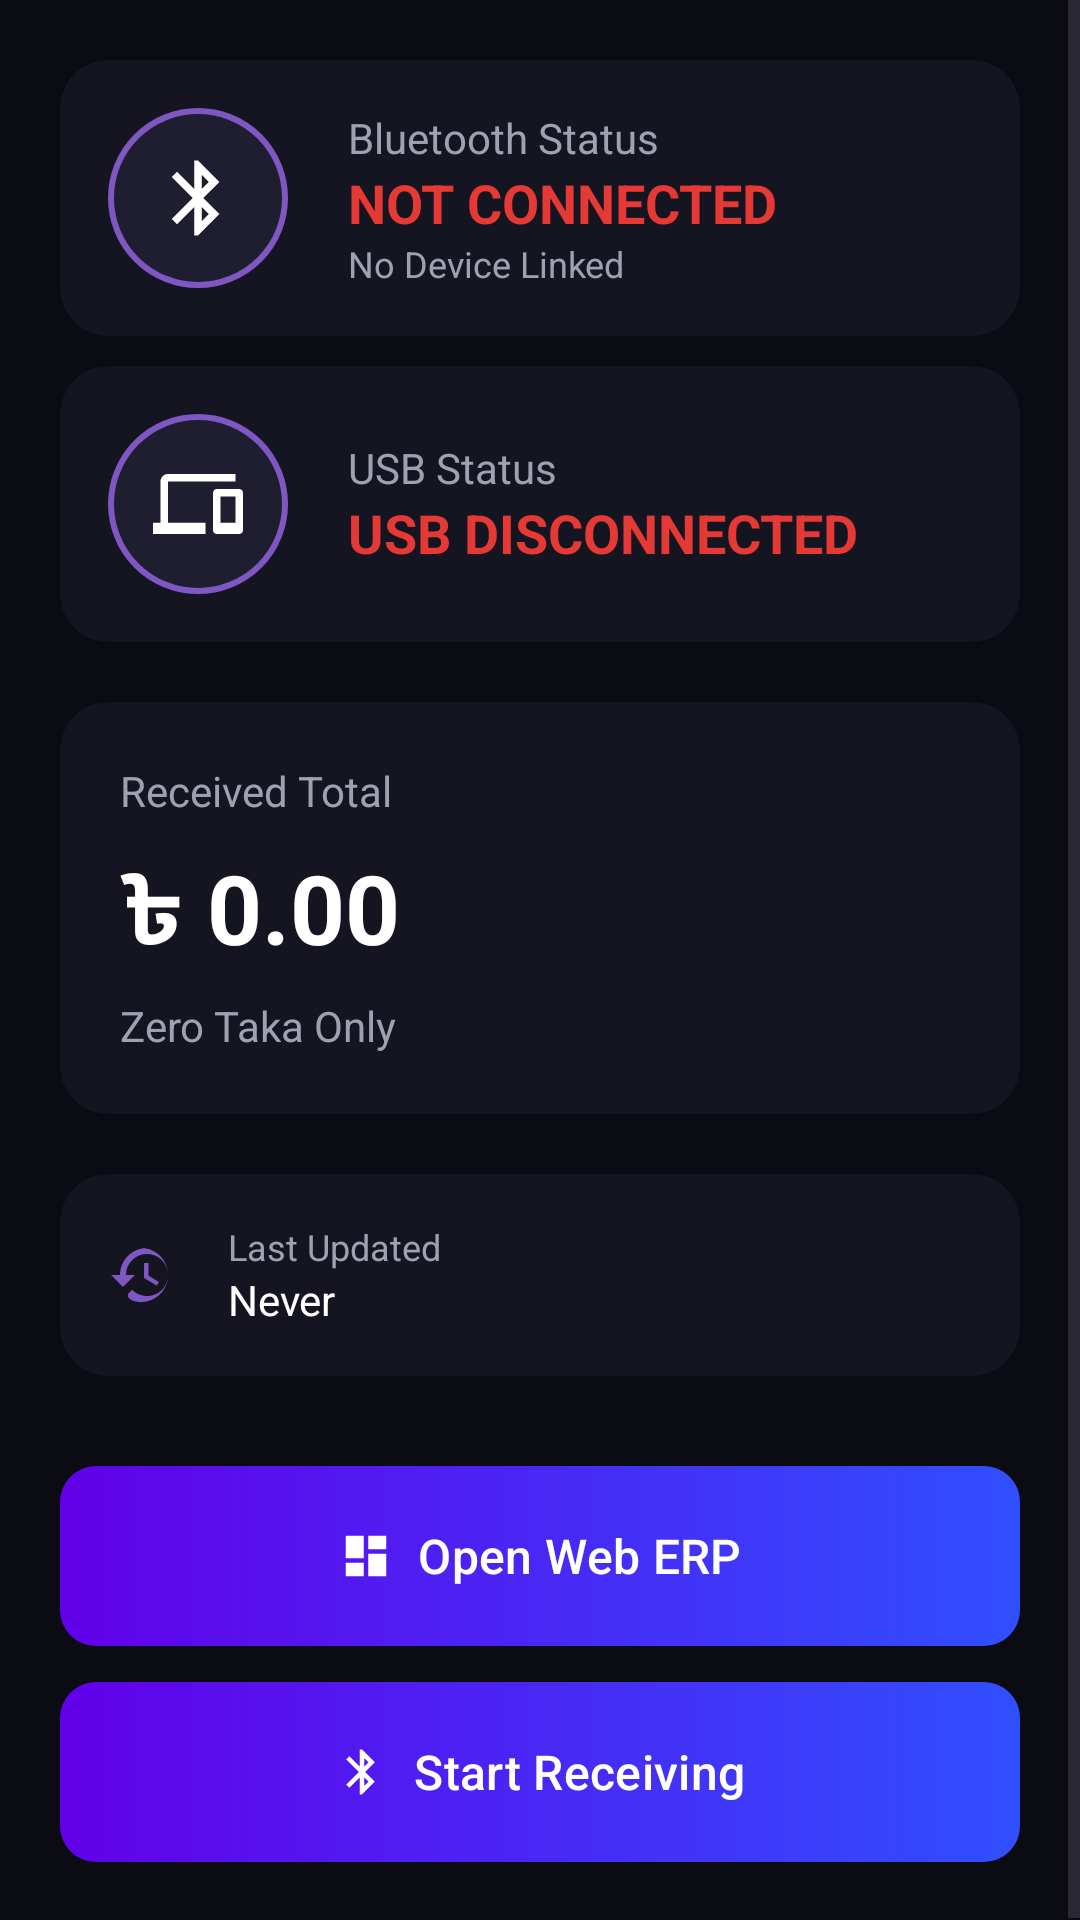

Named icons in this screenshot (1080*1920) and their centers, point (x, y):
devices: point (198, 504)
history: point (139, 1275)
